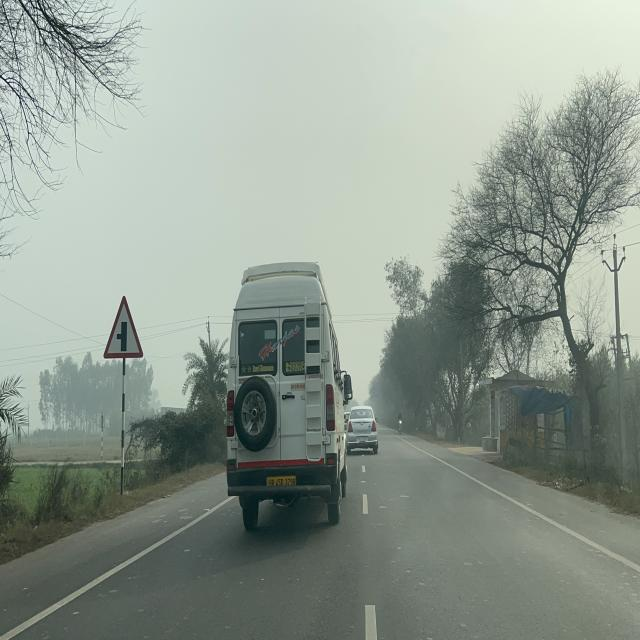SIDE_ROAD_LEFT: (103, 294, 143, 359)
